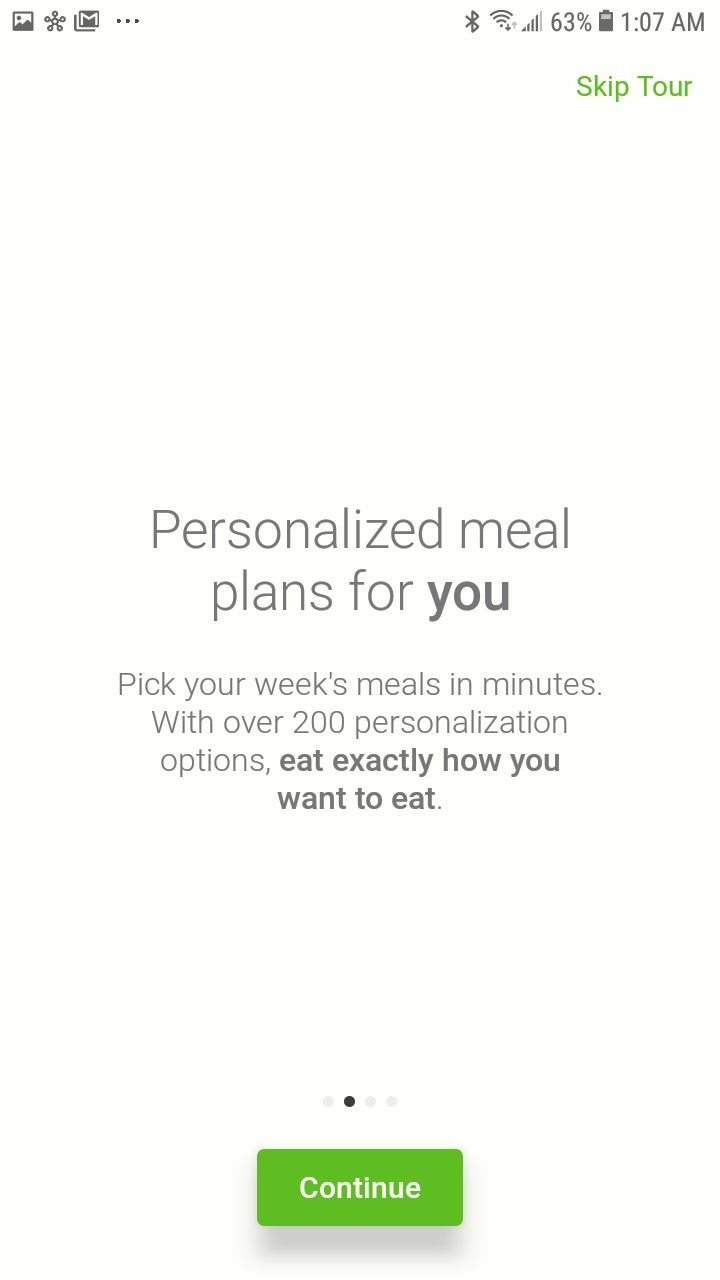PageIndicator: (323, 1095, 398, 1108)
Text: (120, 672, 602, 810), (153, 507, 569, 623), (577, 75, 692, 103)
TextButton: (257, 1149, 464, 1226)
UpperTaskBar: (1, 1, 720, 43)
